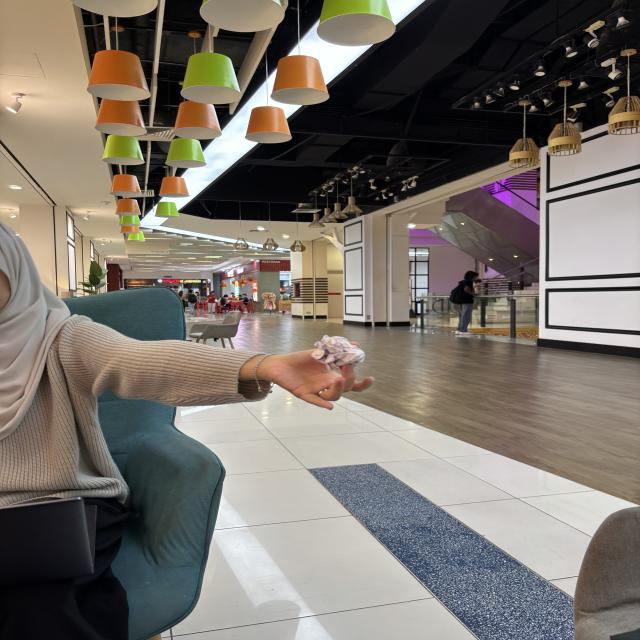crumpled_paper: (311, 332, 368, 373)
